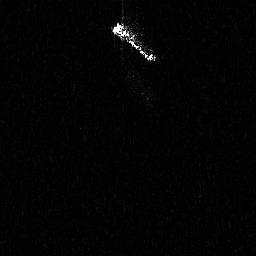ship: (110, 20, 159, 62)
